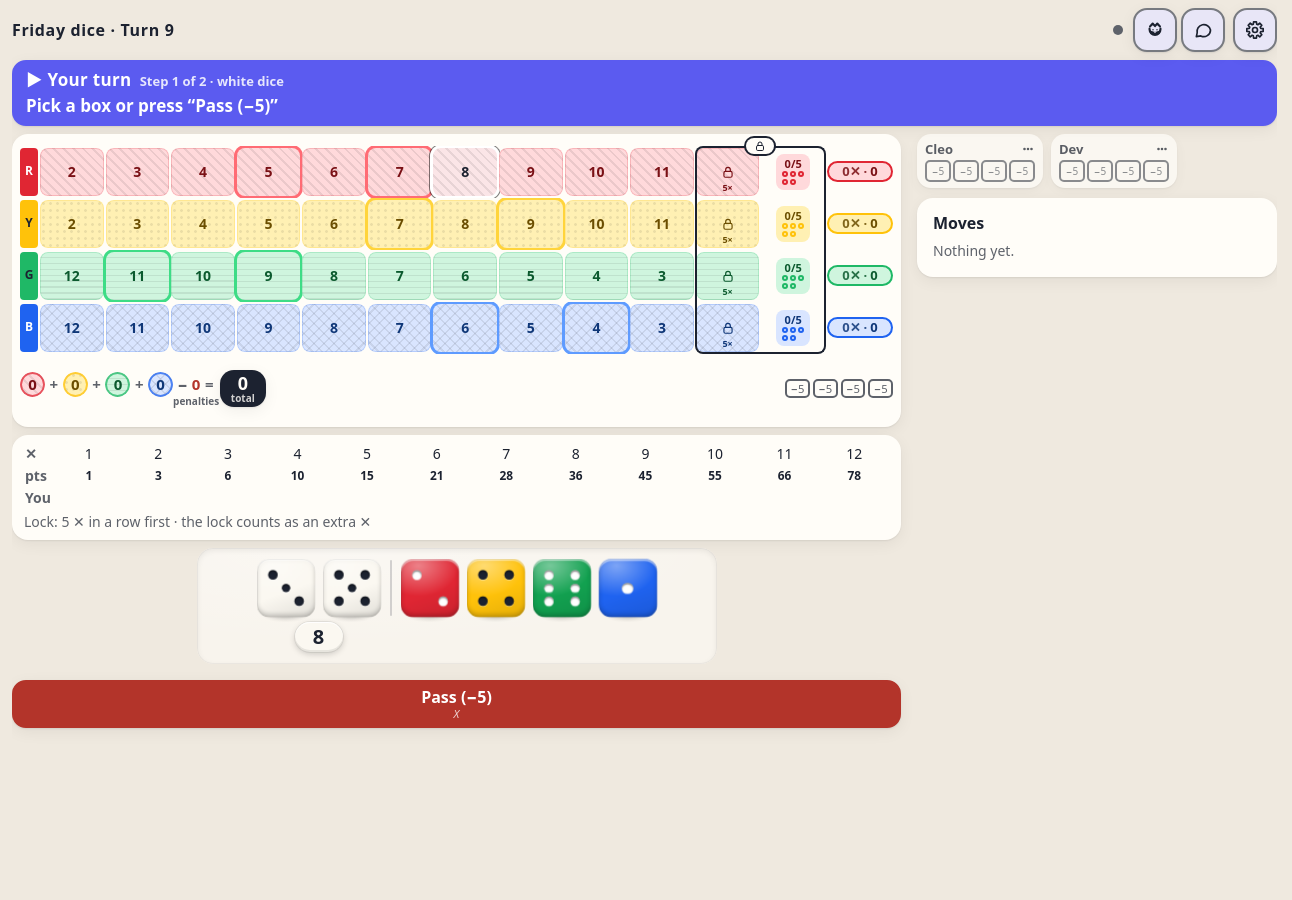
Scenario: selection in the game screen (T-NEW-19) › the step markers are the big ones
Click the button named "Red 8, can mark". click: [465, 172]
box: [434,148,497,196]
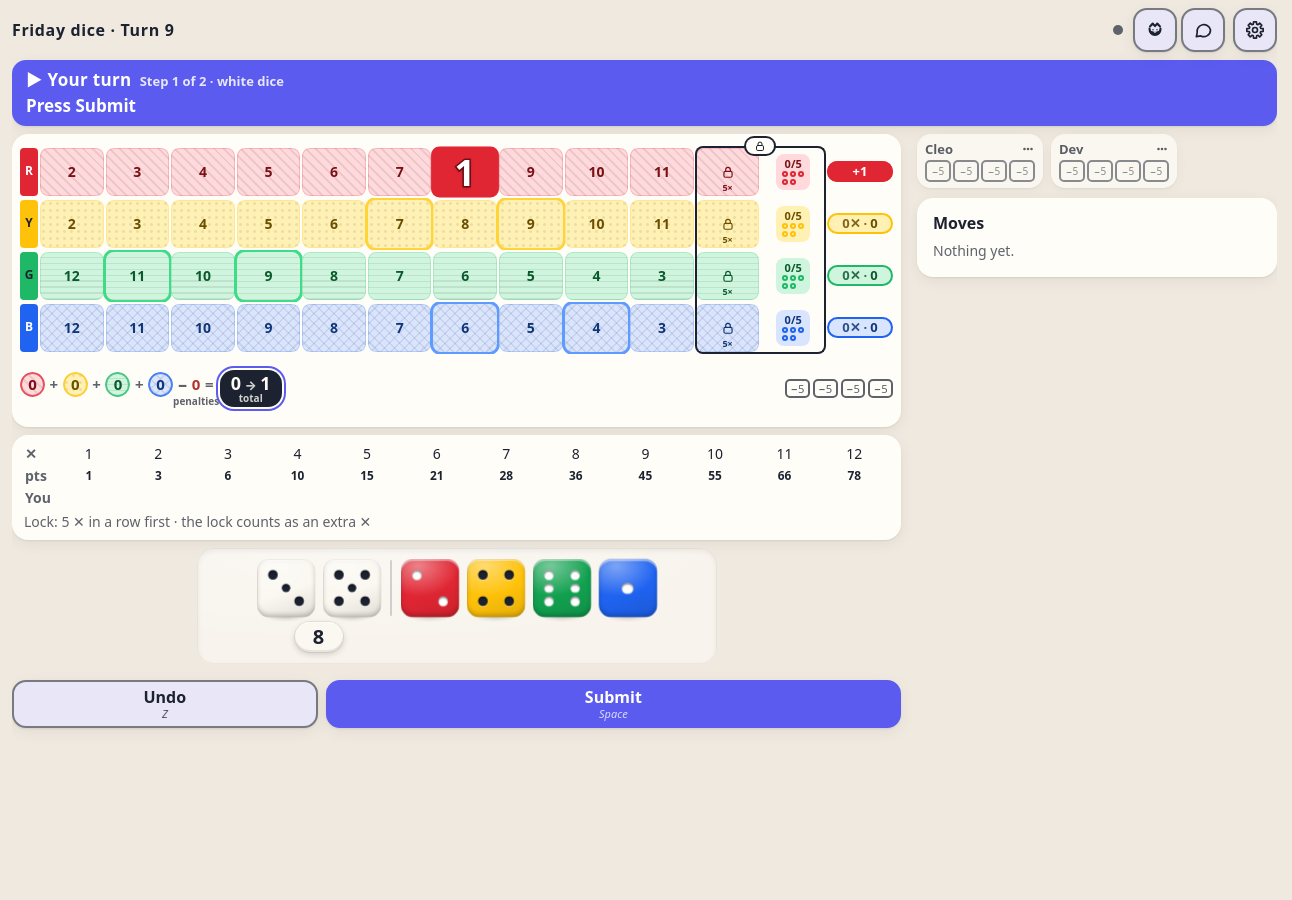
Result: the text with class "g-step" is shown at [455,147,476,196]
